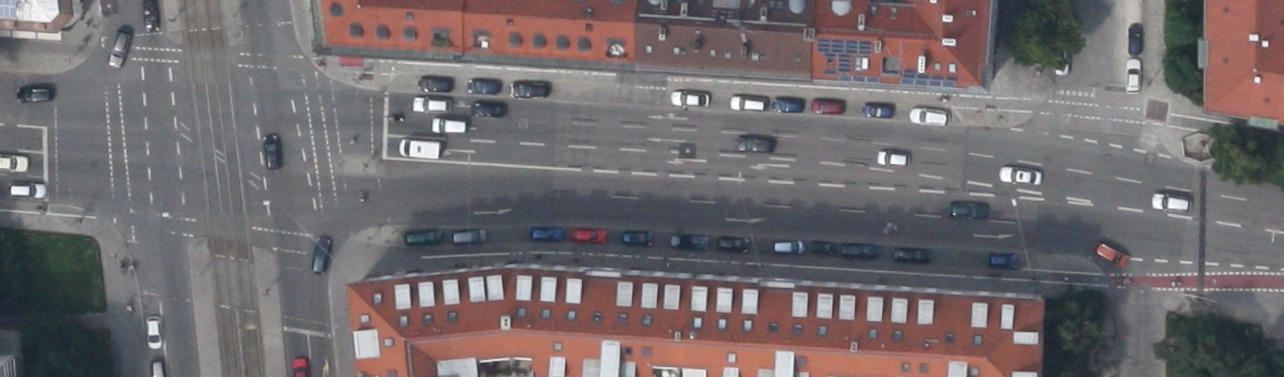car: (997, 164, 1043, 186), (1094, 240, 1130, 268), (309, 234, 333, 275), (106, 31, 131, 68), (1150, 191, 1192, 212), (261, 132, 281, 169), (949, 200, 989, 218), (735, 134, 775, 152), (909, 107, 948, 125), (892, 245, 931, 263), (841, 241, 880, 258), (411, 96, 451, 112), (571, 226, 606, 244), (511, 80, 548, 97), (670, 233, 709, 249), (470, 99, 506, 116), (861, 100, 894, 118), (717, 235, 750, 253), (9, 182, 46, 198), (728, 95, 767, 110), (466, 77, 500, 94), (811, 97, 845, 114), (876, 150, 910, 167), (418, 75, 454, 91), (430, 117, 466, 133), (670, 91, 708, 106), (404, 230, 442, 245), (452, 228, 487, 244), (987, 252, 1018, 270), (530, 226, 564, 242), (1125, 58, 1141, 91), (142, 0, 159, 31), (621, 229, 652, 246), (146, 315, 161, 349), (16, 87, 49, 102), (772, 96, 804, 111), (773, 239, 804, 254), (1127, 24, 1143, 53), (811, 239, 835, 254)
